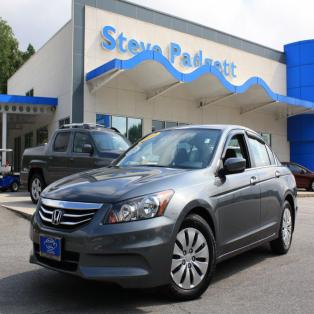Auto: (28, 125, 297, 299)
